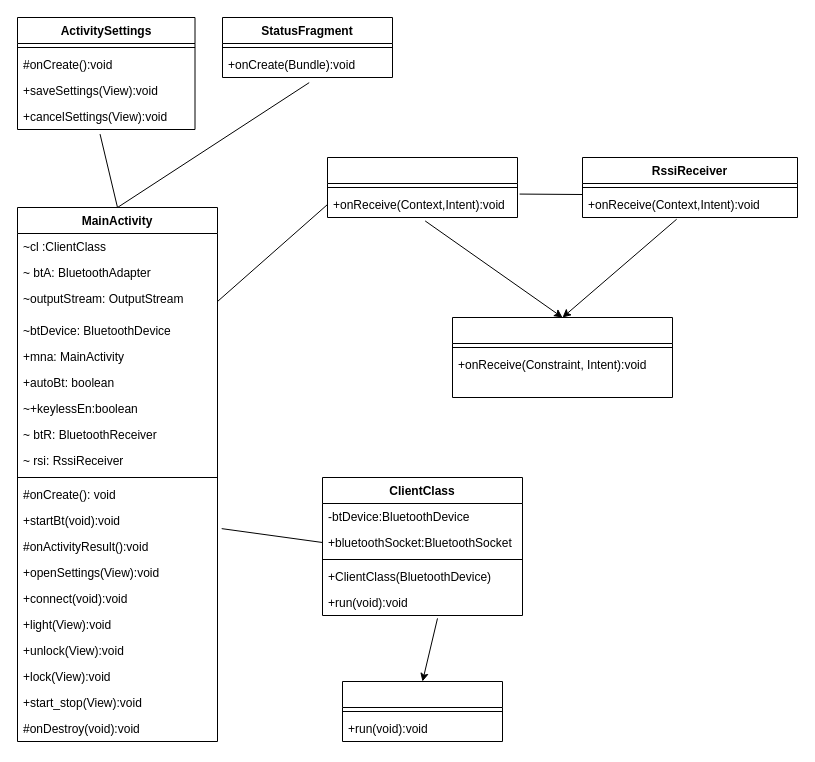
The diagram is 815 pixels wide and 762 high, and some of its shapes have lost their labels. The shapes that lost their labels are listed below. From the top down, each one's box as (x1, y1, x2, y2) in pixels, then its label:
(326, 156, 518, 218): BluetoothReceiver
(452, 316, 672, 398): BroadcastReceiver
(342, 680, 502, 742): Thread
